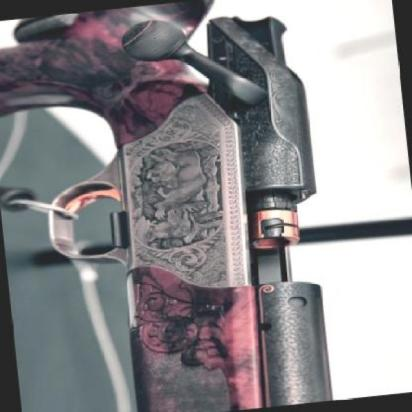Gun: (0, 0, 364, 412)
